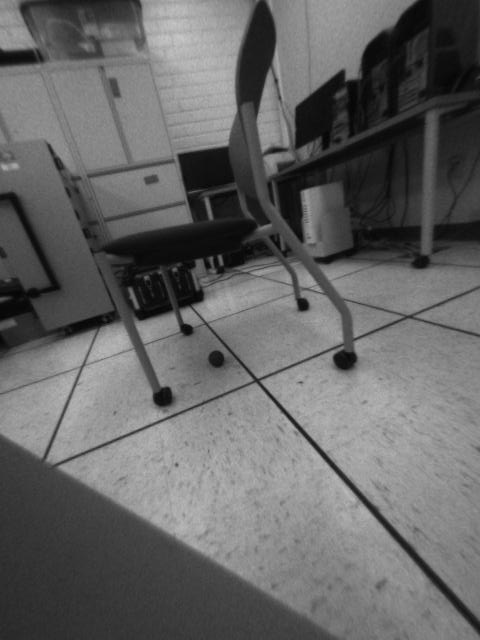dogtoy: (203, 345, 234, 369)
